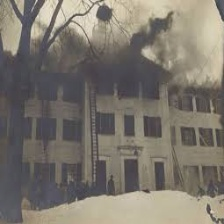smoke: (100, 15, 180, 88)
